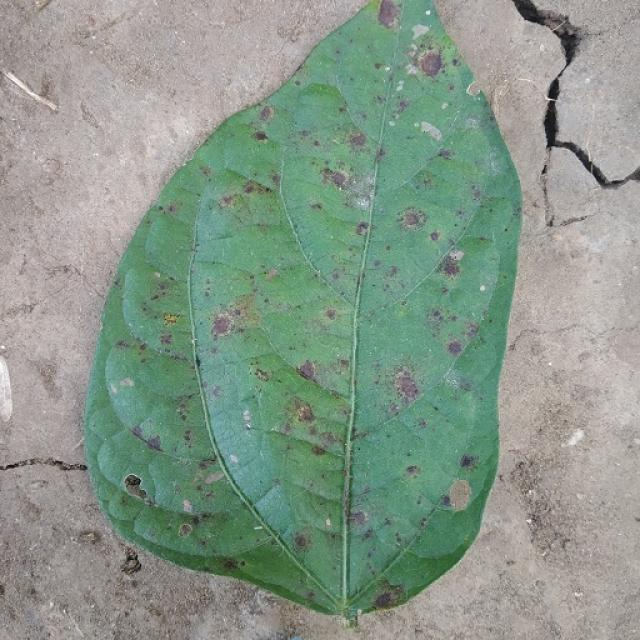Anthracnose: (391, 368, 429, 410), (448, 478, 472, 512), (321, 166, 351, 191), (397, 208, 426, 229), (419, 51, 443, 76), (377, 0, 399, 27), (438, 255, 462, 278), (211, 314, 232, 337), (295, 402, 315, 423), (298, 360, 316, 381), (374, 590, 394, 608), (427, 308, 446, 326), (348, 131, 367, 147), (145, 434, 162, 451), (446, 340, 463, 356), (459, 454, 477, 469), (253, 367, 270, 382), (293, 534, 308, 549), (395, 98, 410, 113), (178, 523, 193, 538), (259, 105, 273, 121), (220, 194, 236, 208), (355, 221, 369, 236), (351, 511, 366, 525), (222, 558, 238, 571), (252, 130, 268, 142), (311, 444, 327, 456), (159, 332, 173, 345), (438, 148, 453, 160), (264, 269, 279, 281), (405, 465, 420, 476), (387, 265, 399, 278), (243, 182, 256, 194), (440, 495, 452, 507), (326, 308, 337, 320), (211, 386, 222, 398), (373, 259, 382, 268), (374, 62, 382, 70), (452, 58, 460, 66)
Blackgram: (85, 0, 521, 622)
